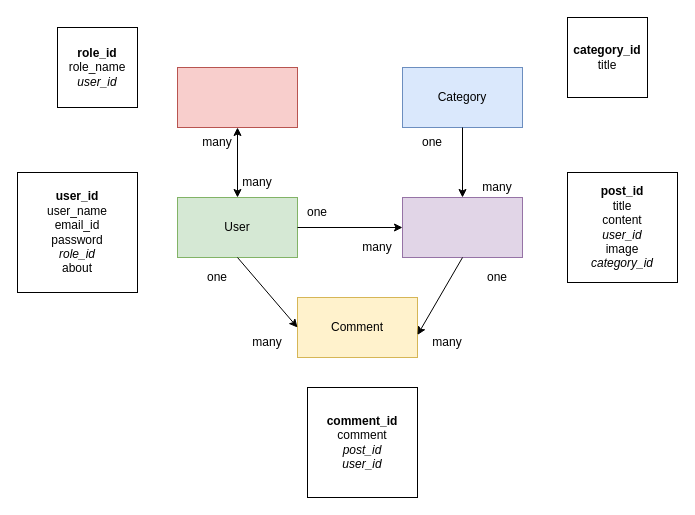
The diagram is 695 pixels wide and 515 high, and some of its shapes have lost their labels. Here are the shapes that lost their labels. From the top down, the centre of each, then its label:
At point (237, 97): "Role".
At point (462, 227): "Post".
